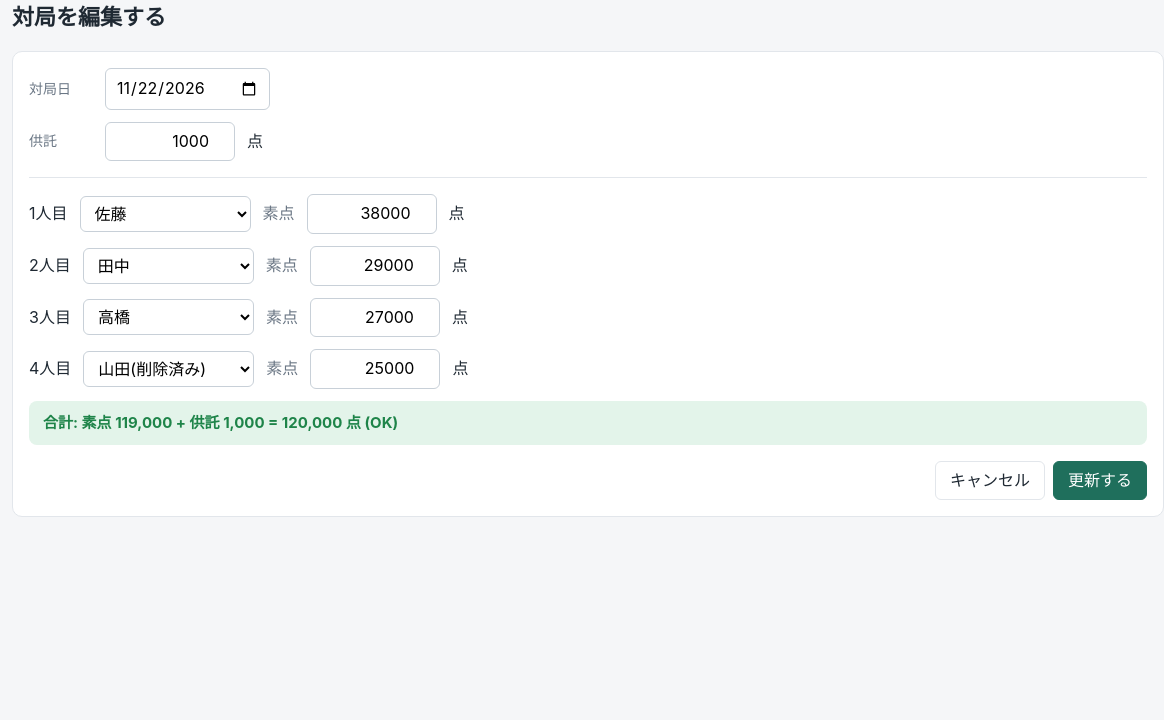
Test: 更新 › 素点を直して更新すると、API を呼び、成功メッセージを出して、対局一覧に移動する
Check: the date field labelled "対局日" is shown, box [105,68,270,110]
Replace the text in the number field named "1人目の素点" with "29000" at (372, 214), box [306,194,436,234]
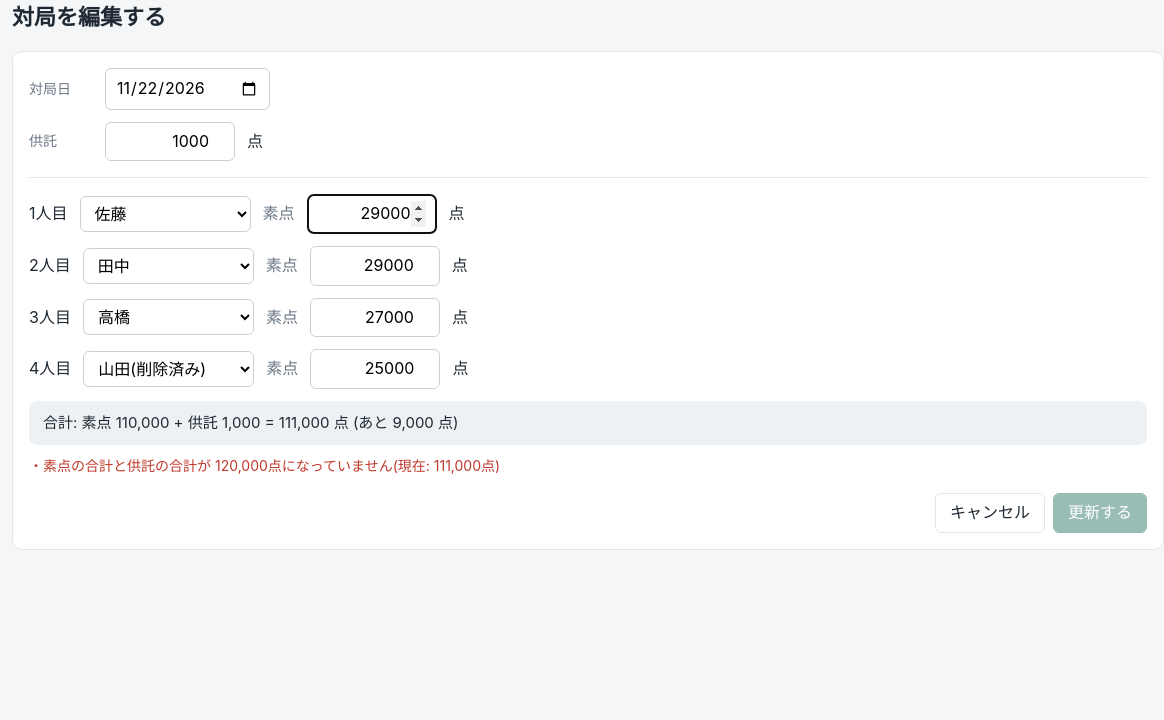
Replace the text in the number field named "2人目の素点" with "38000" at (375, 266), box [310,246,440,286]
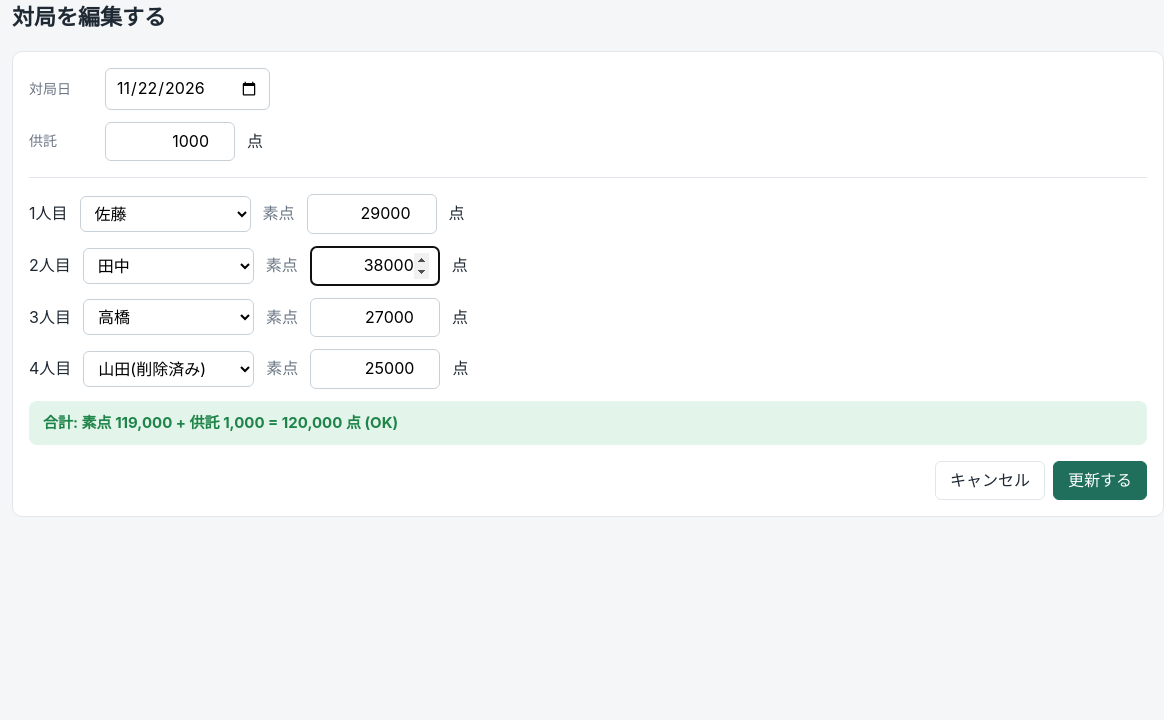
Click the button "更新する" at (1100, 481), box [1053,461,1147,500]
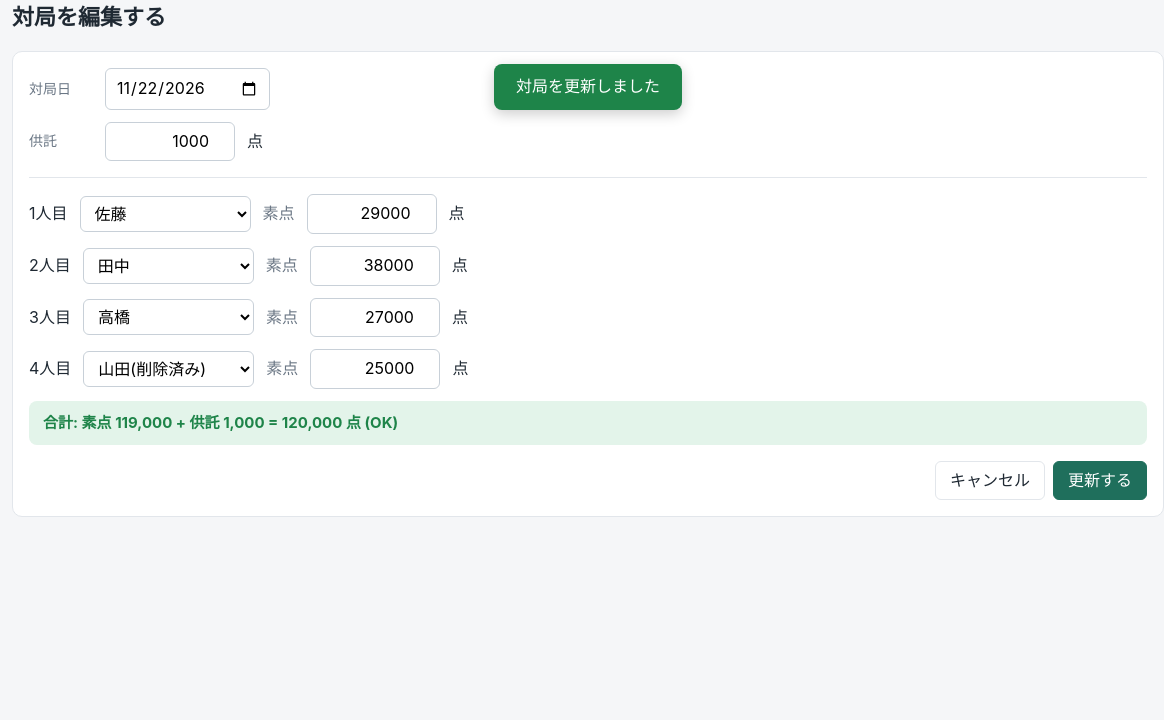
Check: the text "対局を更新しました" is shown, box [494,64,682,110]
